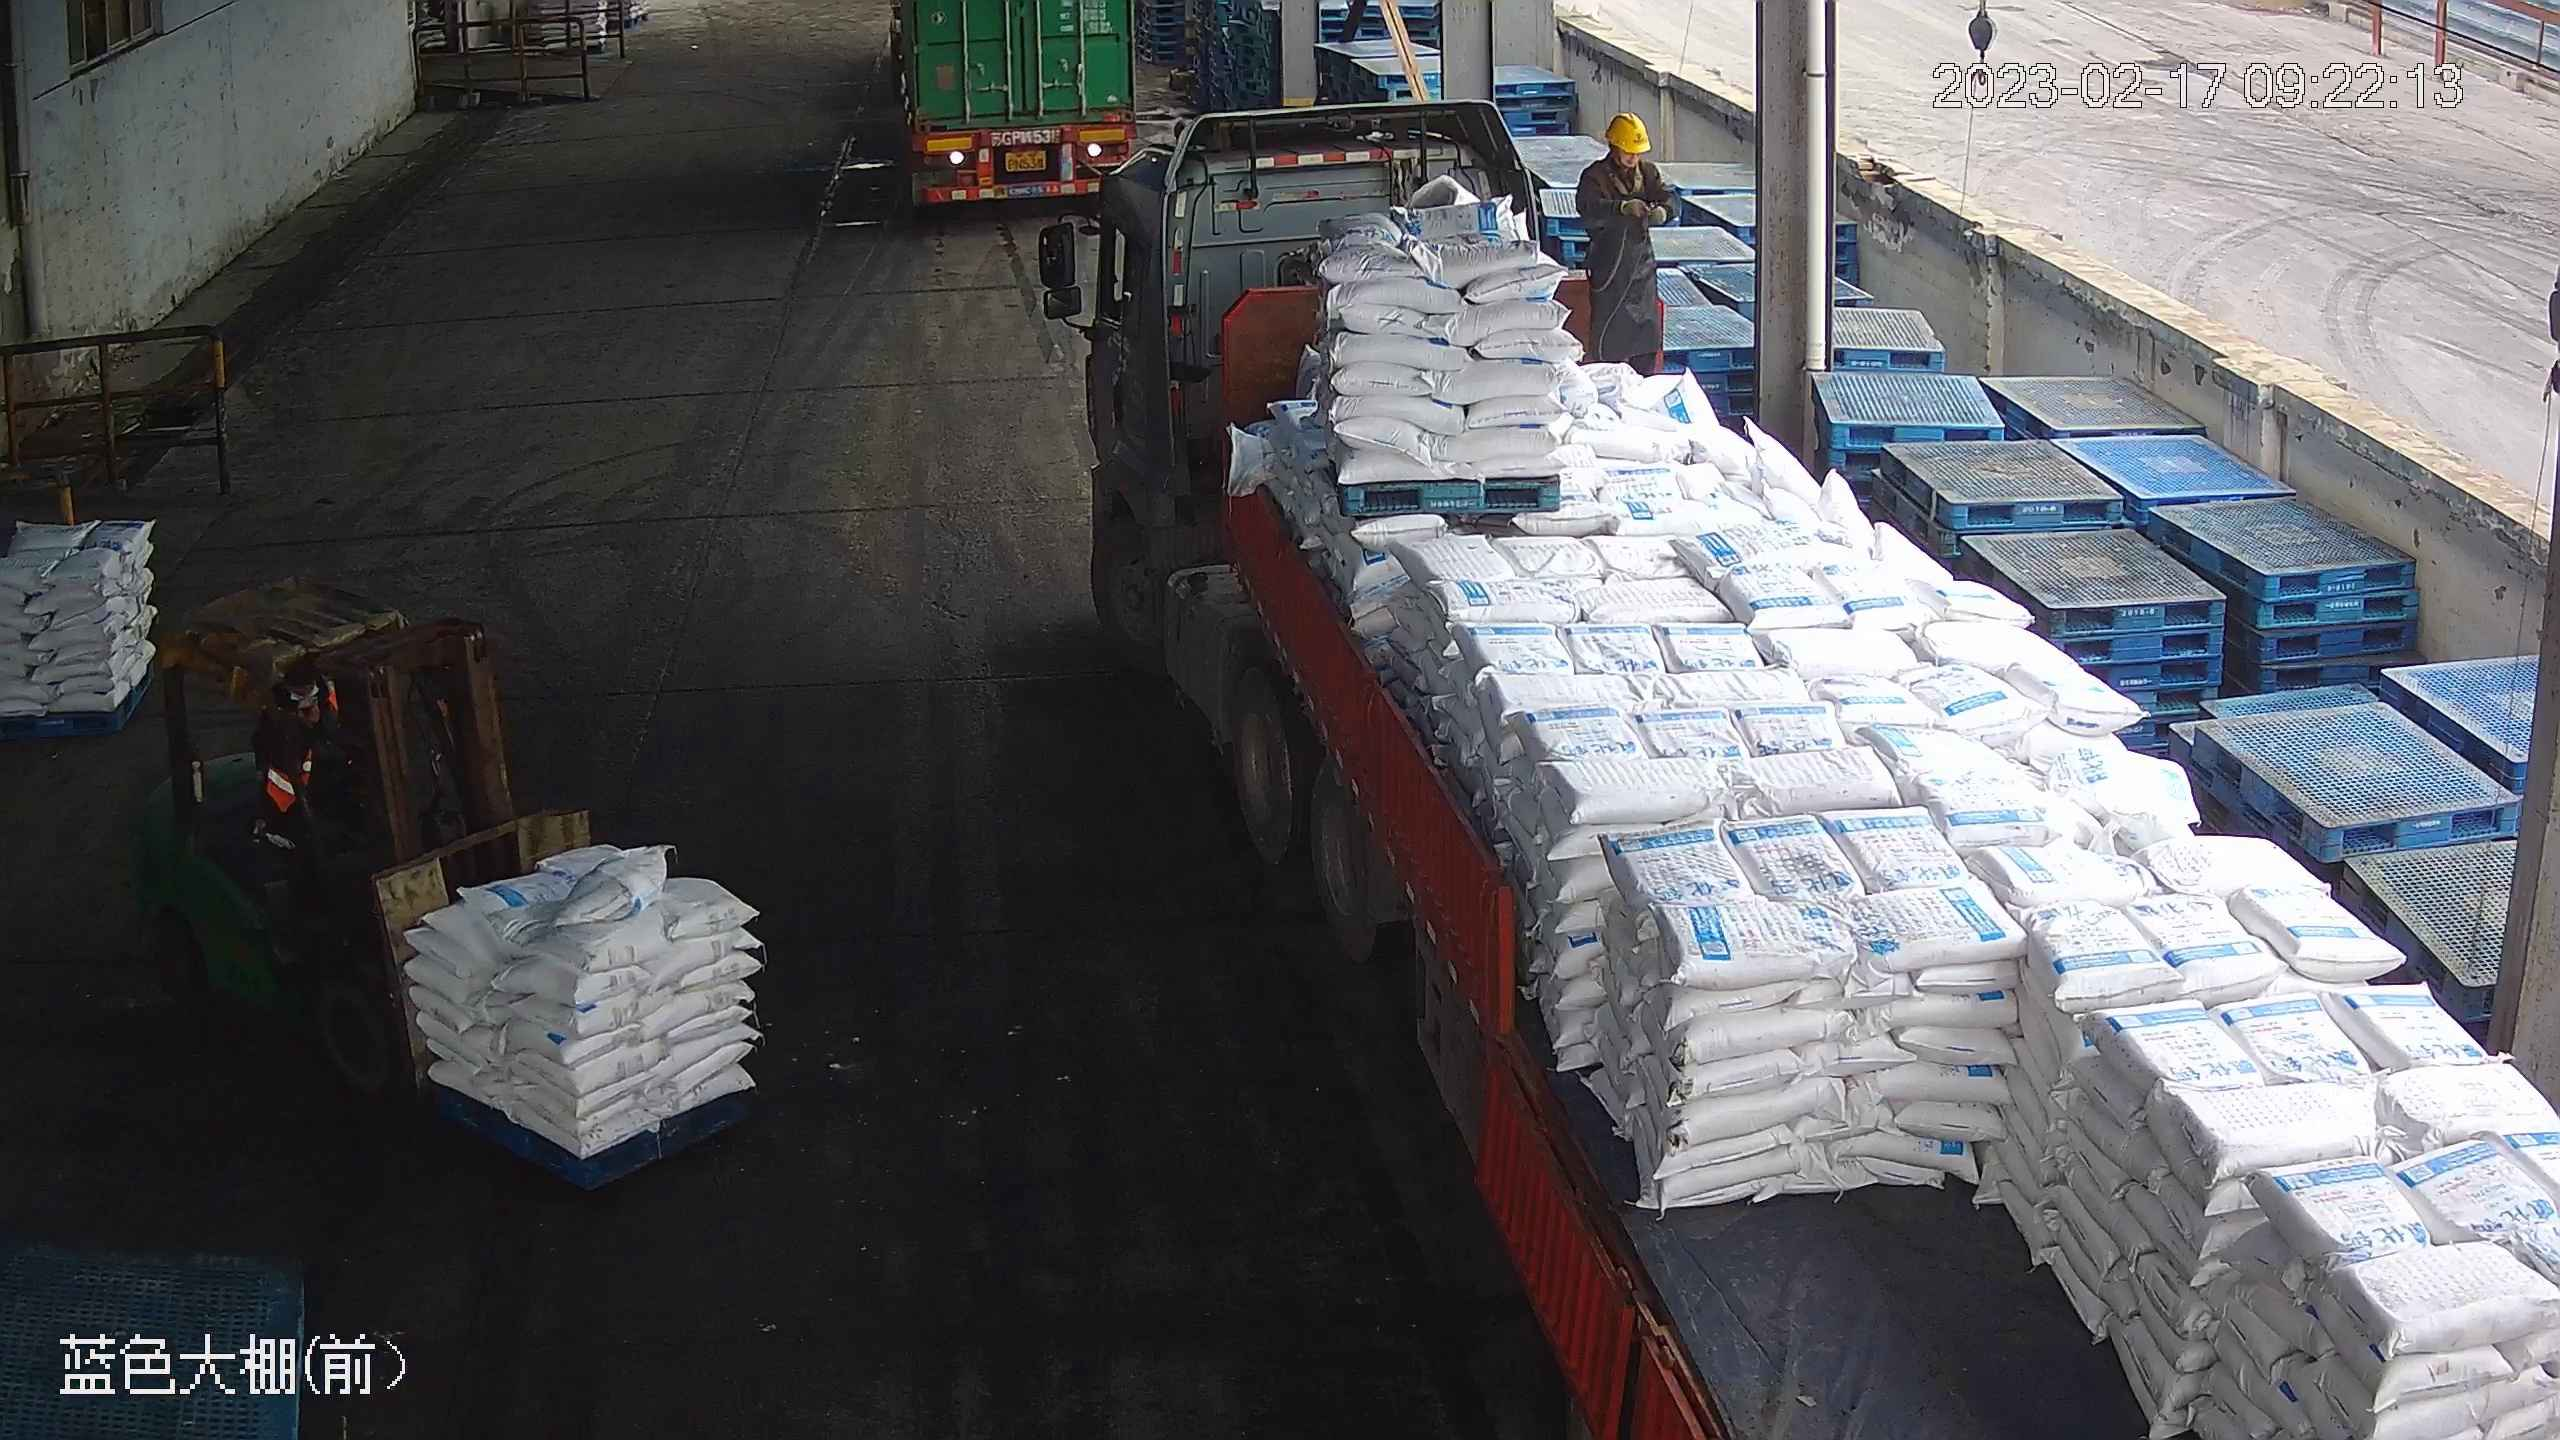belt: (1602, 162, 1655, 218)
head: (1578, 110, 1666, 207)
helmet: (1603, 109, 1651, 152)
people: (1570, 109, 1677, 385)
truck: (1040, 99, 2555, 1439), (891, 1, 1144, 214)
